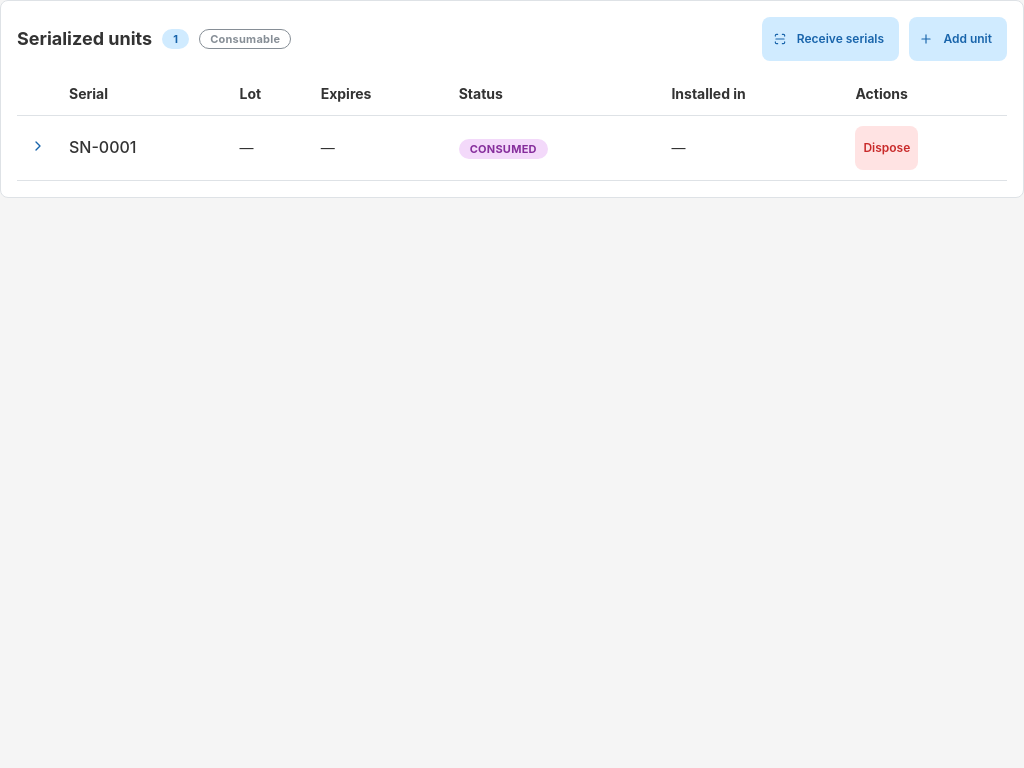
SerializedComponentsPanel › opens the dispose modal and disposes with a reason
Click the button with test id "serialized-action-dispose-unit-1" at (887, 148), box 855,126 -> 918,170
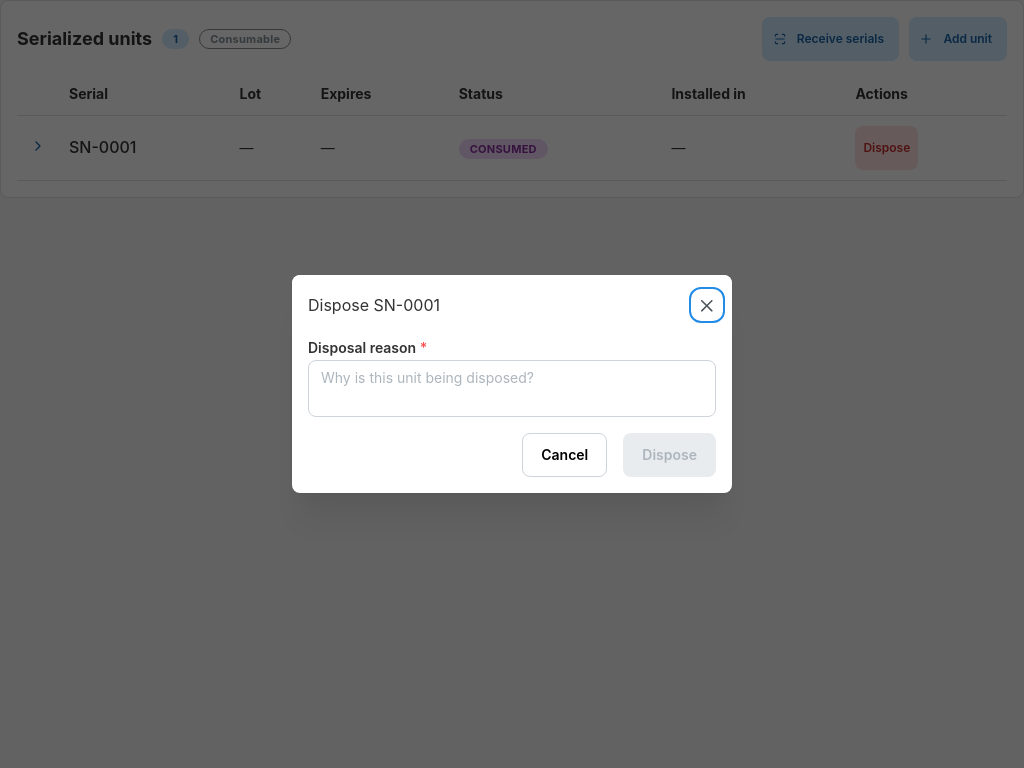
Note: Reason is required — the reason field appears in the modal.
Type "worn out" into the text box with test id "serialized-dispose-reason" at (512, 388), box 308,360 -> 716,417
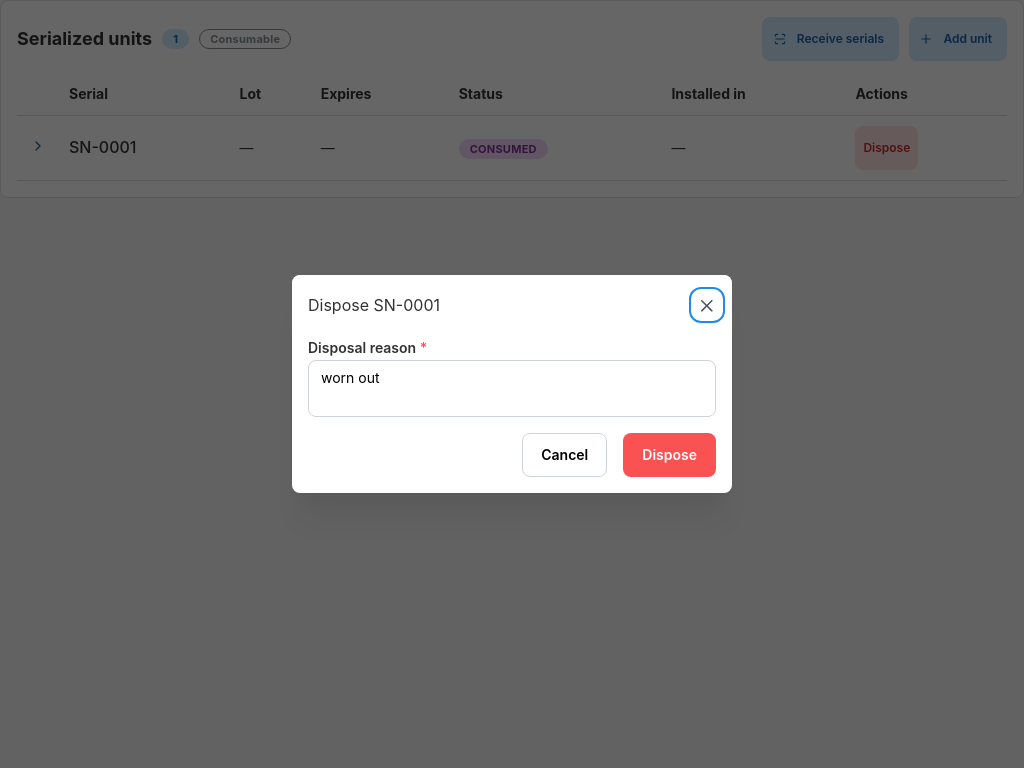
Click the button with test id "serialized-dispose-submit" at (670, 455), box 623,433 -> 716,477
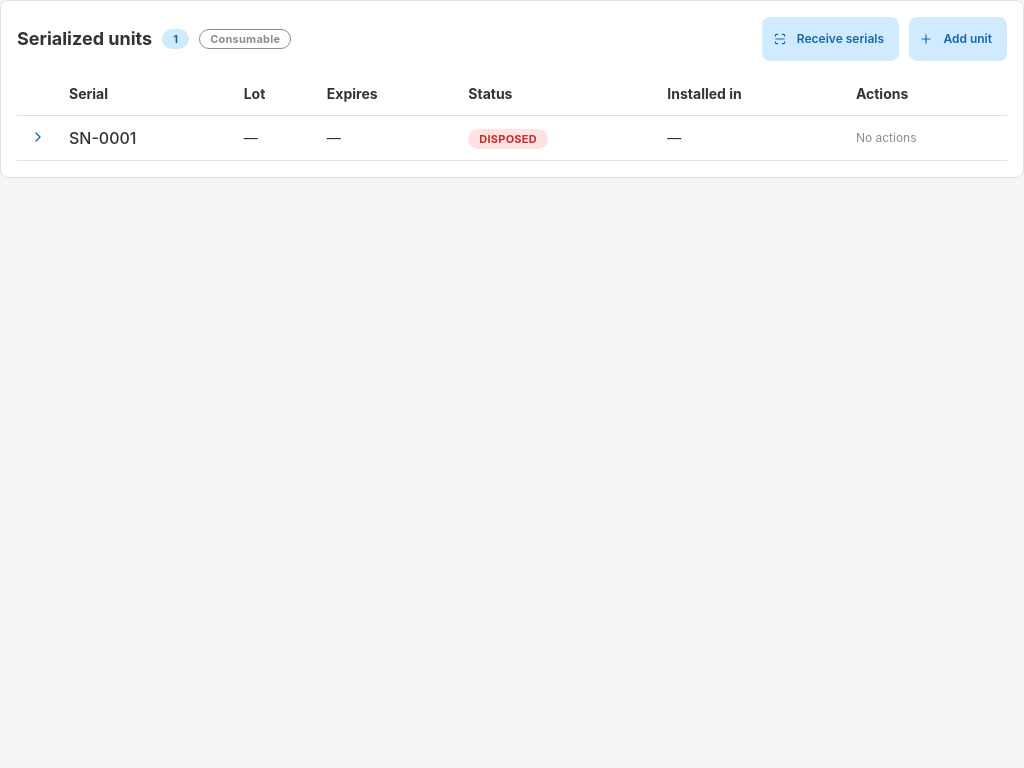
Expected: the text "Disposed" is shown, 479,130 -> 537,148
